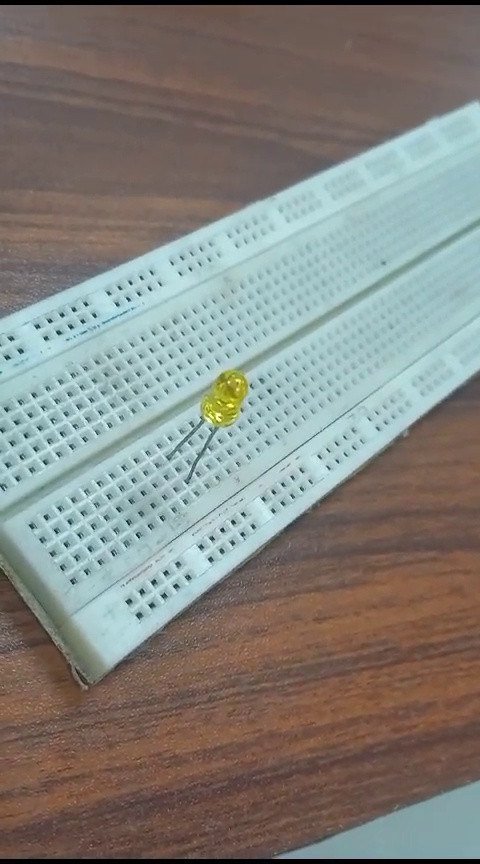LED: (172, 361, 251, 484)
